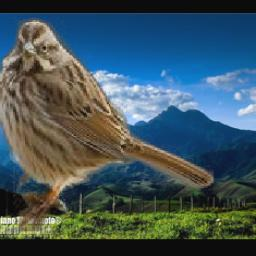Sparrow: (0, 18, 214, 231)
